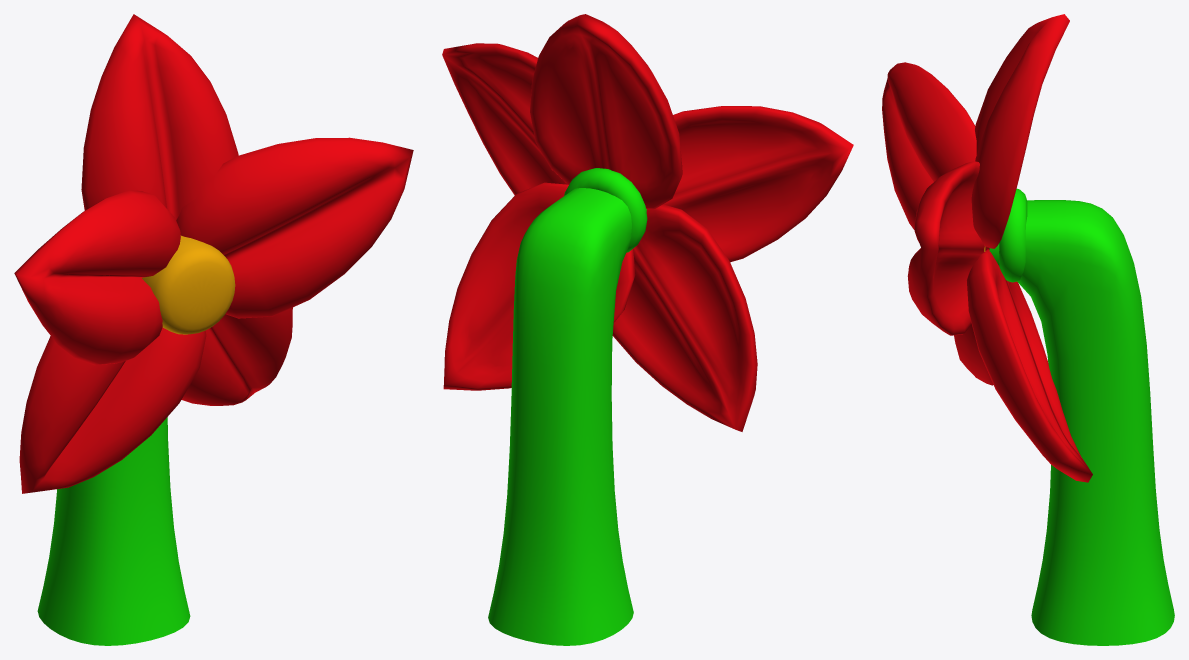
File: FlowerS.fbx
The picture shows the model from 3 angles, left to right: view 1: azimuth 30°, elevation 25°; view 2: azimuth 150°, elevation 25°; view 3: azimuth 270°, elevation 25°; orthographic projection. The views are drawn at different scales.
Parts seen in each view (by area): view 1: fbxBigFlower_SubDiv; view 2: fbxBigFlower_SubDiv; view 3: fbxBigFlower_SubDiv.
Part boxes in pixels (box(x1,y1,x2,y2)): fbxBigFlower_SubDiv: box(14, 14, 413, 645); fbxBigFlower_SubDiv: box(442, 14, 853, 645); fbxBigFlower_SubDiv: box(882, 14, 1174, 645).
Size of the model in its own units: 955 by 1357 by 598.
